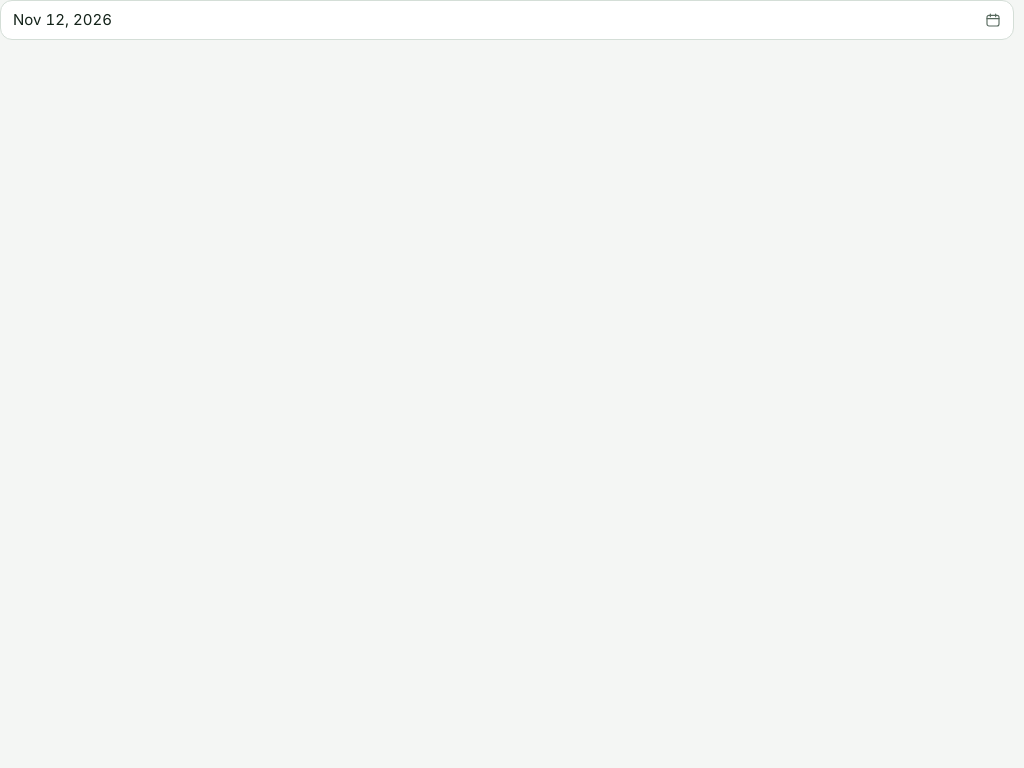
Scenario: NuqtaDatePicker › honours min/max by disabling out-of-range days
The image size is (1024, 768).
Step 1. Click the dropdown named "Pick date" → {"x": 62, "y": 20}, box [0,0,1014,40]
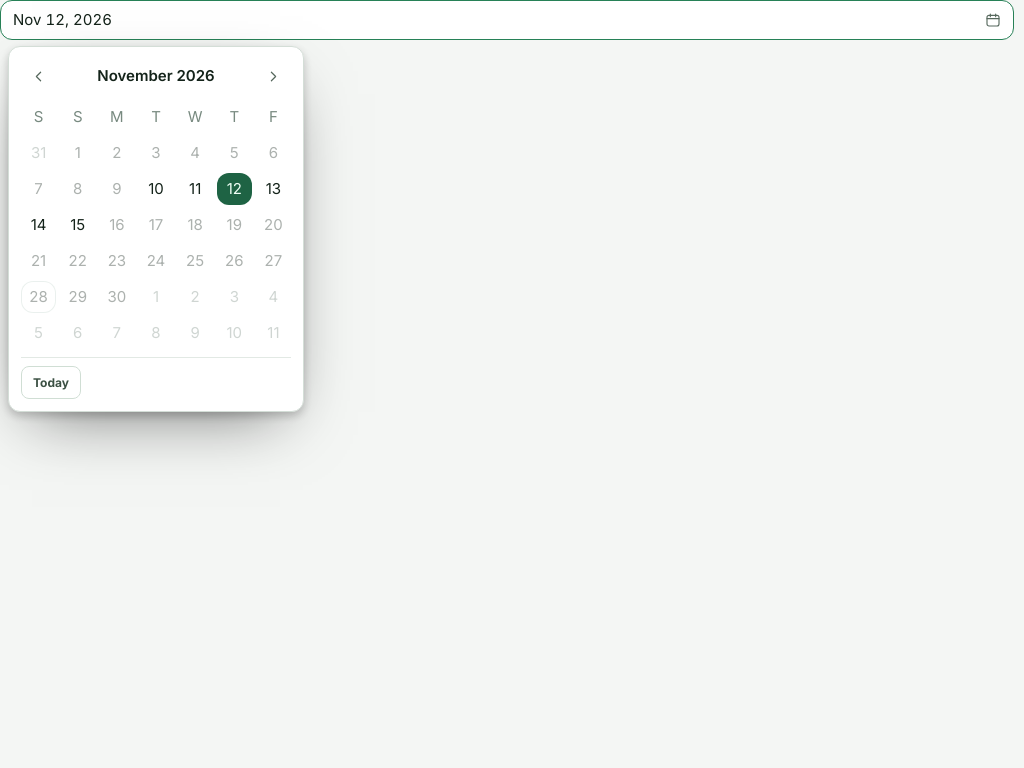
Now the button named "2026-11-09" is disabled, box [99,173,134,205]
Now the button named "2026-11-20" is disabled, box [256,209,291,241]
Now the button named "2026-11-12" is enabled, box [217,173,252,205]
